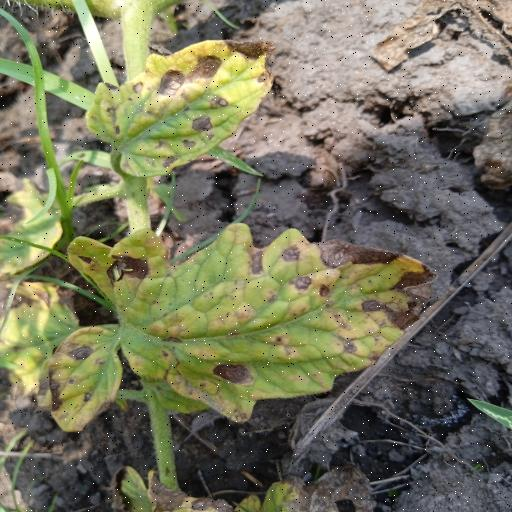Tomato_Brown_Spots: (40, 220, 439, 434), (83, 35, 278, 180)
